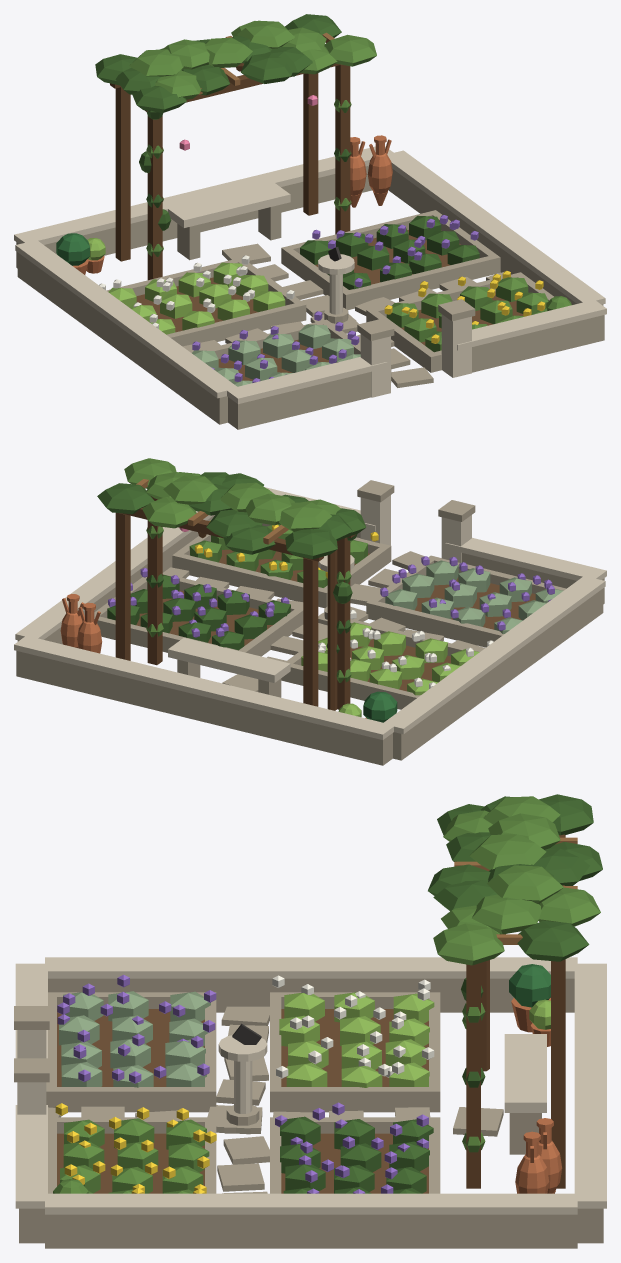
File: Kraeutergarten.fbx
3 views of the same model, one above another, from view 1: azimuth 30°, elevation 25°; view 2: azimuth 150°, elevation 25°; view 3: azimuth 270°, elevation 25° (orthographic). The views are drawn at different scales.
Visible parts, largest first — view 1: Kraeutergarten_0; view 2: Kraeutergarten_0; view 3: Kraeutergarten_0.
Boxes of the visible parts, x1=… form: Kraeutergarten_0: x1=14, y1=14, x2=606, y2=429; Kraeutergarten_0: x1=14, y1=458, x2=606, y2=765; Kraeutergarten_0: x1=14, y1=794, x2=606, y2=1248.
Bounding box in the file's own units: 1.82 × 0.9411 × 1.82.
